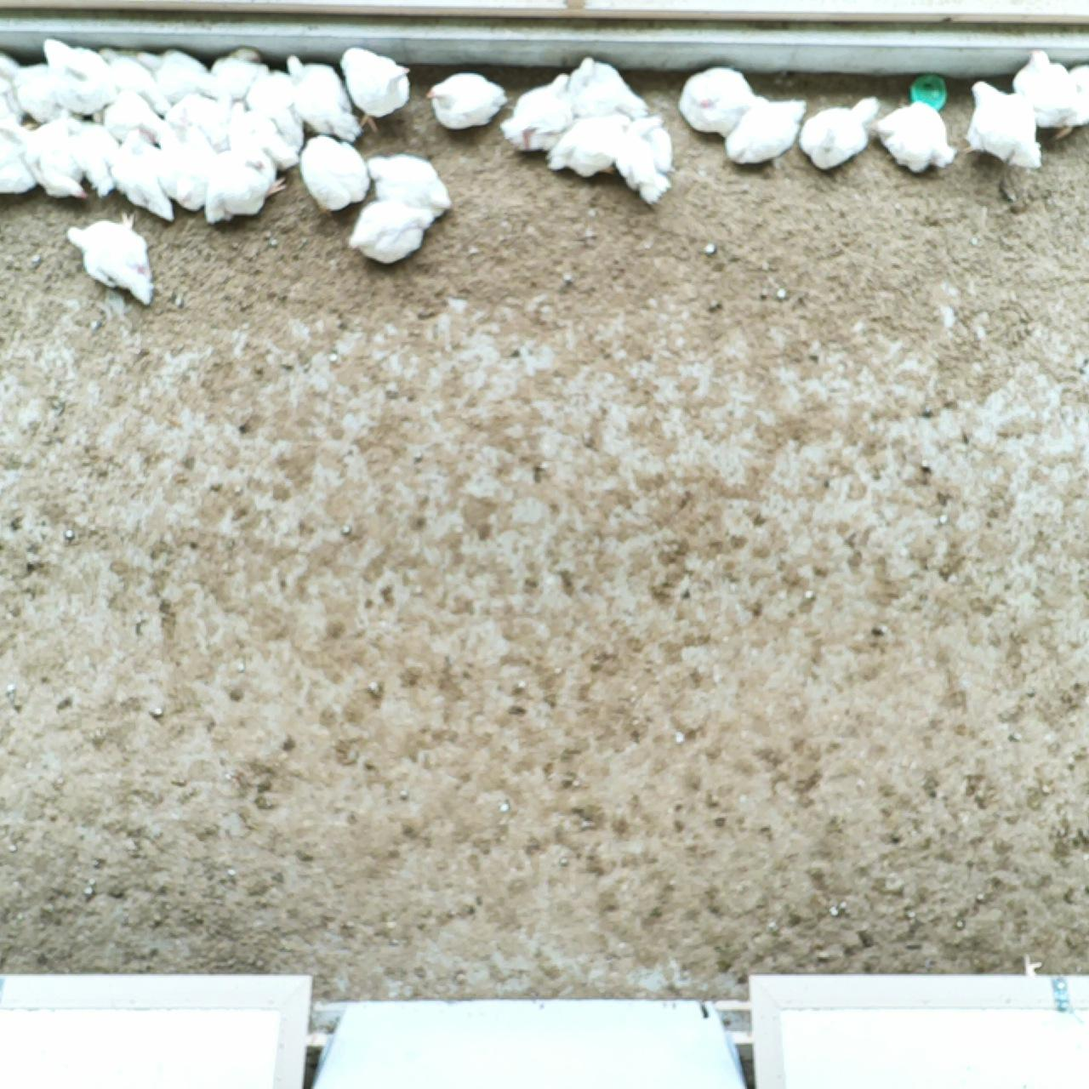chicken: (65, 207, 156, 308), (281, 50, 366, 144), (960, 80, 1044, 174), (202, 147, 288, 232), (339, 44, 415, 135), (798, 94, 883, 174), (872, 99, 958, 177), (109, 124, 176, 224), (615, 113, 684, 210), (499, 69, 574, 156), (364, 150, 455, 220), (298, 131, 372, 217), (677, 64, 766, 135), (723, 94, 809, 167), (41, 34, 117, 116), (344, 200, 438, 265), (543, 110, 630, 179), (243, 61, 307, 152), (1011, 45, 1078, 130), (24, 114, 87, 203), (424, 69, 507, 135), (225, 98, 298, 171), (566, 56, 648, 119), (154, 125, 208, 217), (101, 47, 172, 115), (63, 116, 119, 197), (134, 48, 218, 94), (91, 88, 165, 138), (166, 91, 234, 145), (12, 64, 73, 124), (209, 43, 261, 105), (0, 116, 39, 194), (1059, 63, 1089, 128), (0, 51, 23, 122)
